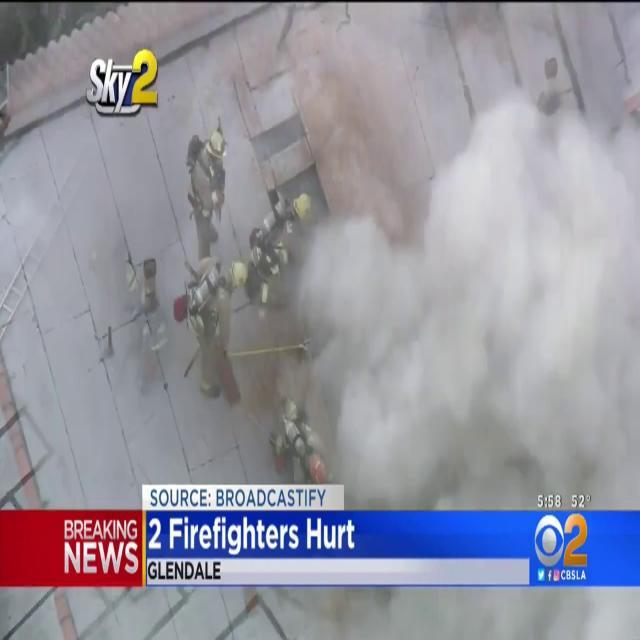Smoke: (168, 4, 639, 496)
